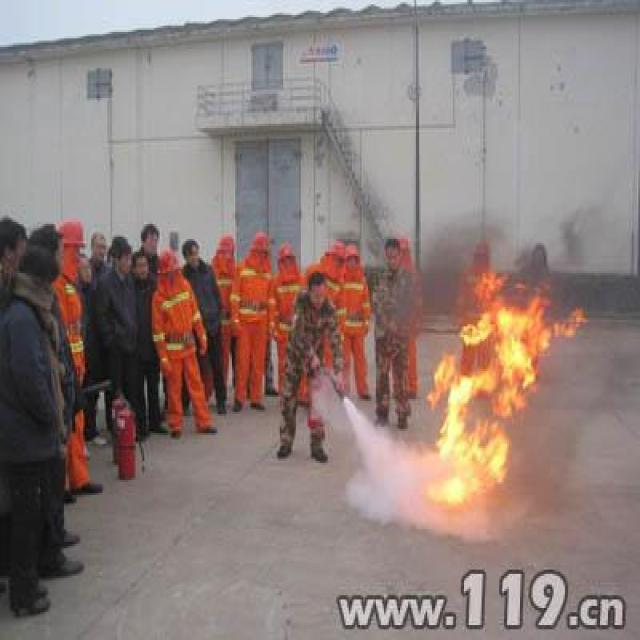fire: (415, 249, 588, 520)
other: (53, 196, 103, 504), (207, 222, 282, 403), (146, 241, 212, 438), (320, 215, 368, 397)
